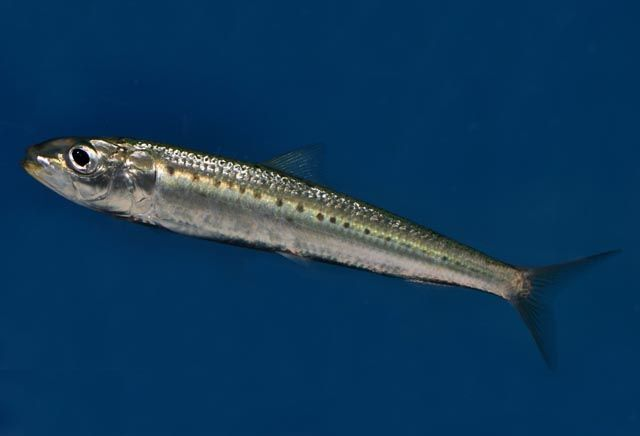fish: (23, 134, 620, 372)
